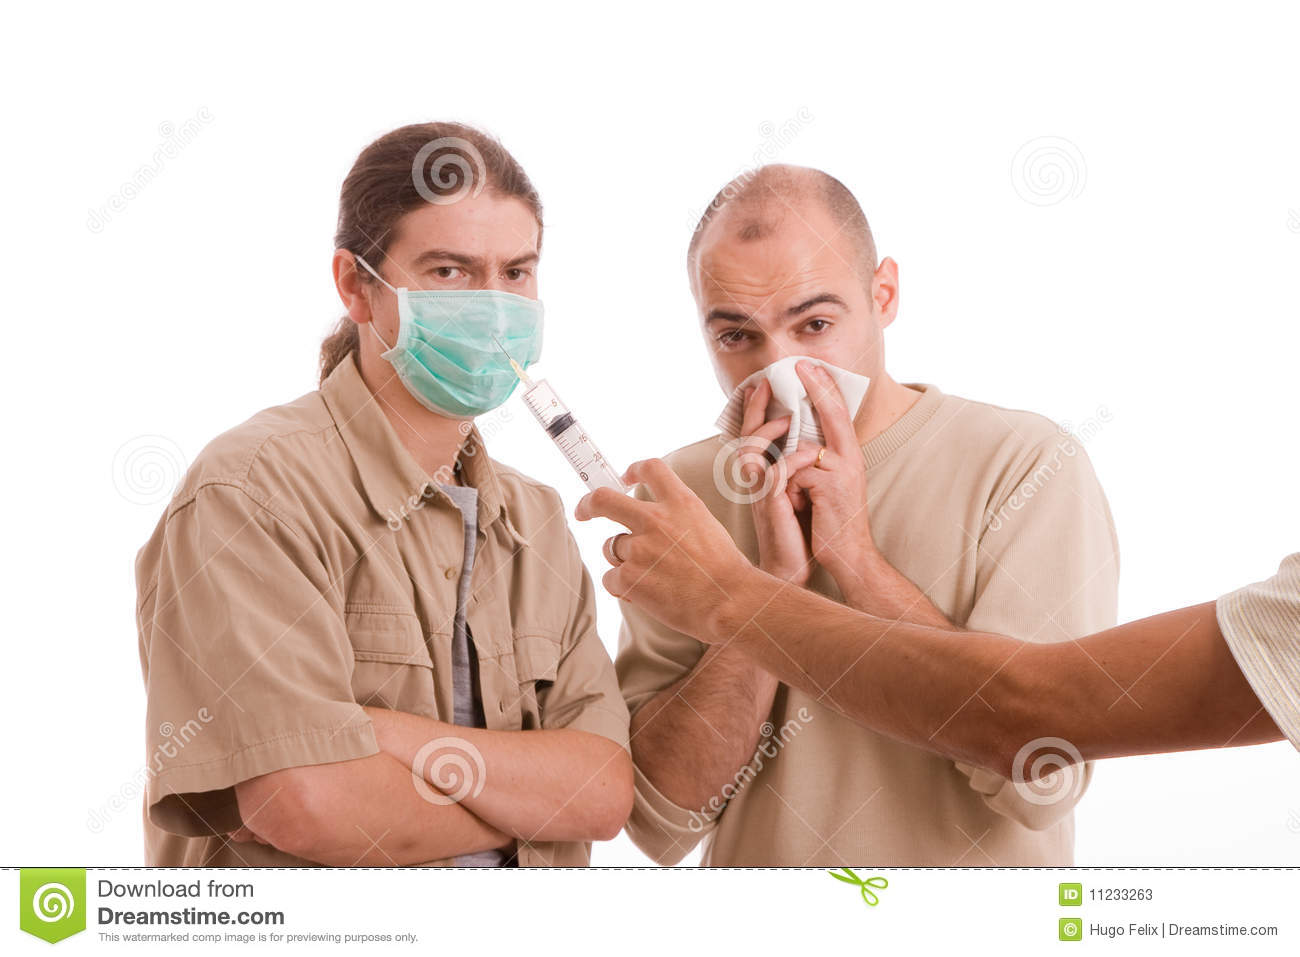mask: (397, 296, 563, 417)
